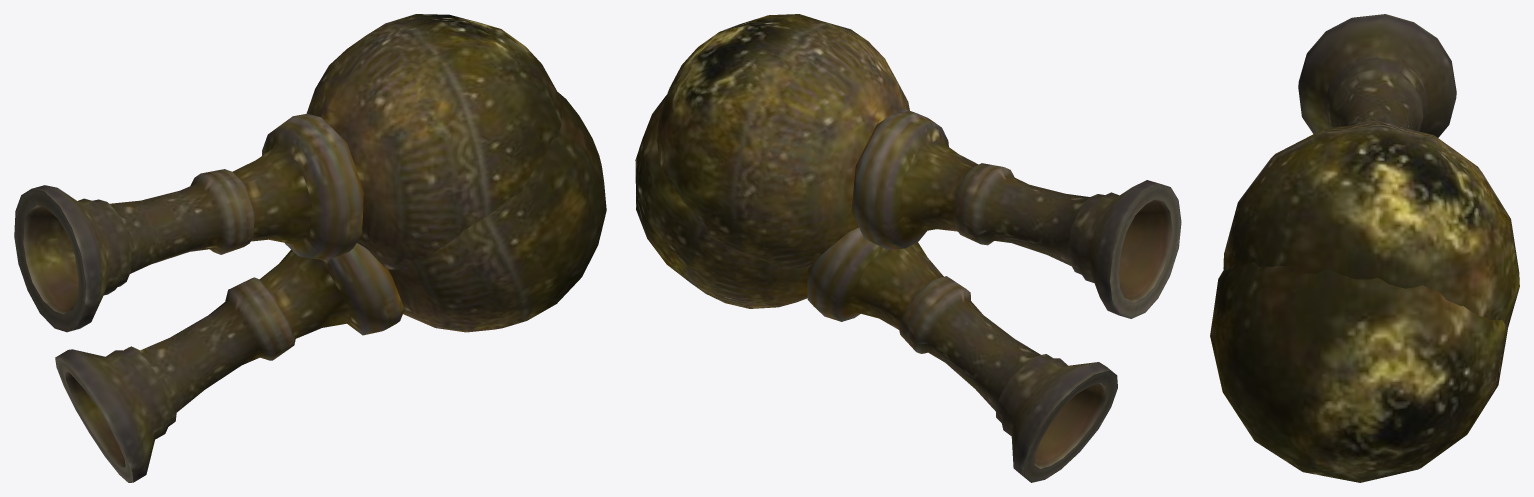
File: weapon-wp_a_1533.glb
The picture shows the model from 3 angles, left to right: view 1: azimuth 30°, elevation 25°; view 2: azimuth 150°, elevation 25°; view 3: azimuth 270°, elevation 25°; orthographic projection. The views are drawn at different scales.
Visible parts, largest first — view 1: wp_a_1533_mesh; view 2: wp_a_1533_mesh; view 3: wp_a_1533_mesh.
Boxes of the visible parts, x1,y1,x2,y2 form: wp_a_1533_mesh: [14, 14, 606, 482]; wp_a_1533_mesh: [635, 14, 1181, 482]; wp_a_1533_mesh: [1210, 14, 1519, 482].
Bounding box in the file's own units: 0.1071 × 0.0753 × 0.0504.
Materials: 1 (1 with a texture image).
